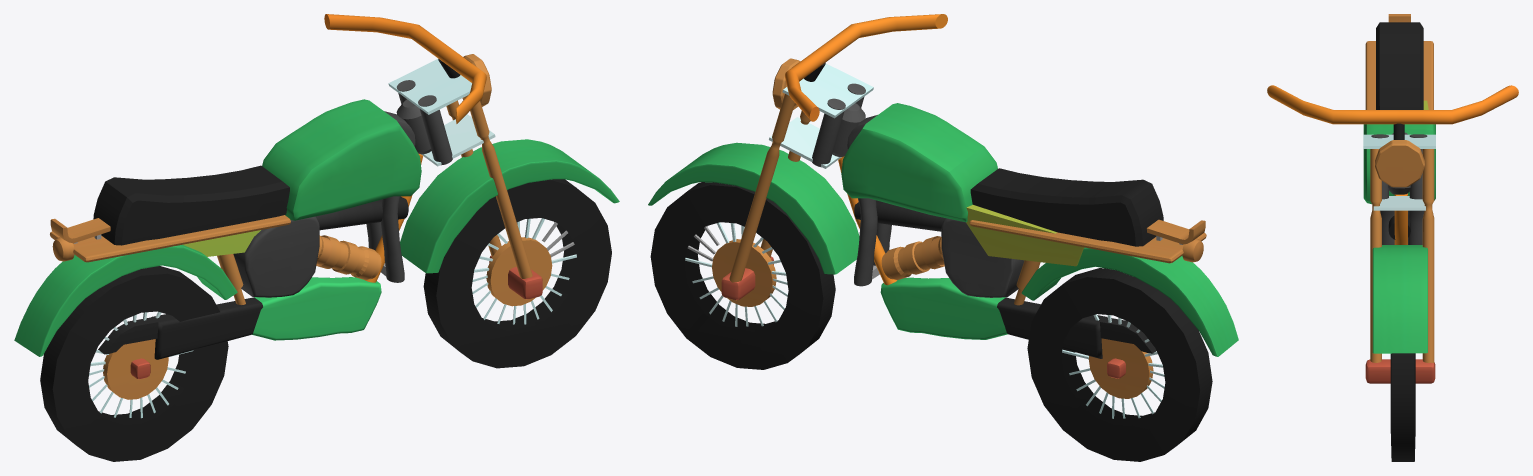
Rendered from motorexp.fbx.
3 views of the same model, side by side, from view 1: azimuth 30°, elevation 25°; view 2: azimuth 150°, elevation 25°; view 3: azimuth 270°, elevation 25° (orthographic). The views are drawn at different scales.
Parts seen in each view (by area): view 1: front1; view 2: front1; view 3: front1.
Boxes of the visible parts, bbox=[...] form: front1: bbox=[14, 14, 619, 461]; front1: bbox=[648, 14, 1238, 461]; front1: bbox=[1267, 14, 1518, 461].
Bounding box in the file's own units: 9.04 × 4.99 × 3.68.
3 materials, 2 textured.
